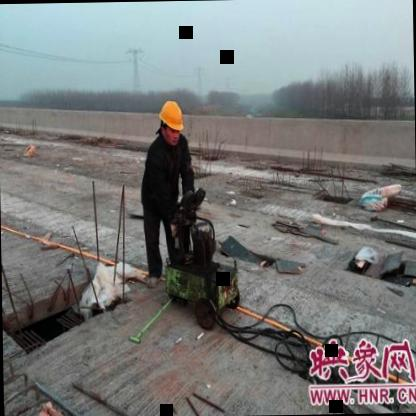helmet: (156, 96, 184, 147)
